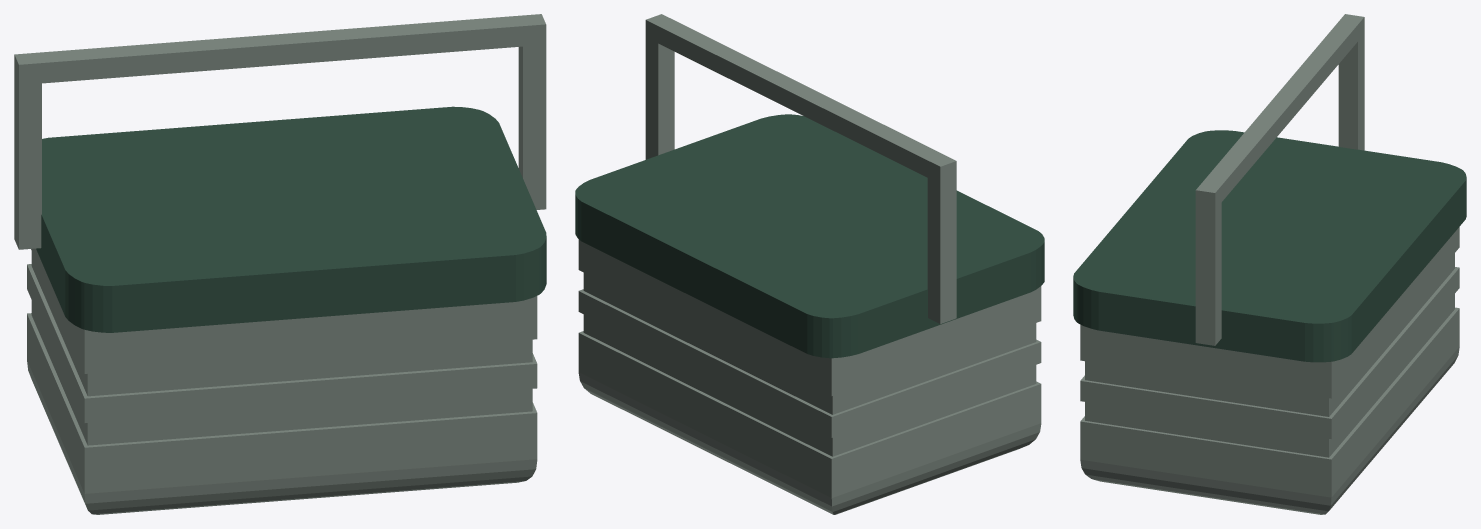
The model's file is Icebox2.glb.
3 renders of one model, left to right at view 1: azimuth 30°, elevation 25°; view 2: azimuth 150°, elevation 25°; view 3: azimuth 270°, elevation 25°, orthographic. The views are drawn at different scales.
Visible parts, largest first — view 1: Box001, Box002; view 2: Box001, Box002; view 3: Box001, Box002.
Boxes of the visible parts, box(x1,y1,x2,y2) form: Box001: box(27, 106, 546, 514); Box002: box(14, 14, 546, 249); Box001: box(575, 114, 1044, 514); Box002: box(645, 14, 956, 323); Box001: box(1073, 130, 1466, 514); Box002: box(1195, 14, 1364, 345).
Size of the model in its own units: 2294357 by 1824069 by 1974000.
